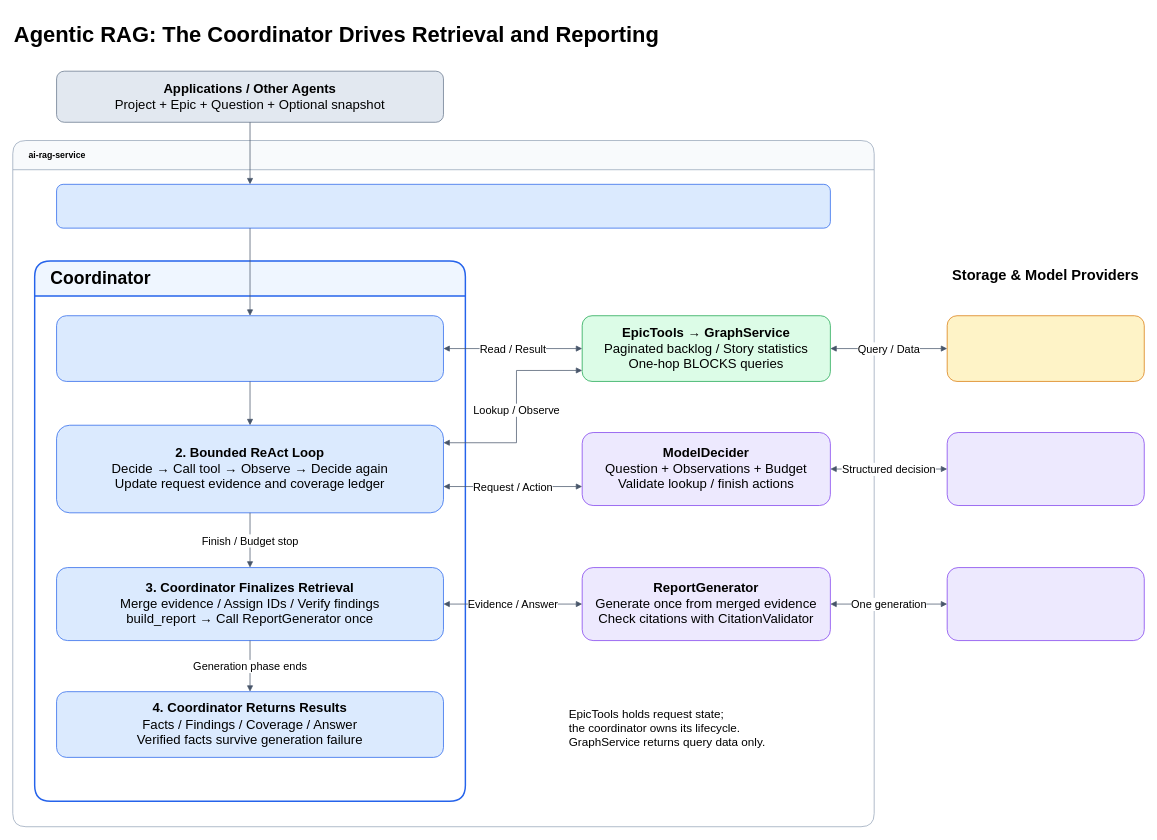
The diagram is 1157 pixels wide and 840 high, and some of its shapes have lost their labels. The centre of each missing label's shape, as x and y in pixels:
1. Mandatory Initial Read Coordinator calls get_epic_backlog: point 249,348
Neo4j + Published Snapshots Fixed site / project / snapshot Read-only access: point 1045,348
OpenAI Decision Model Strict JSON Schema Select an action: point 1045,469
OpenAI Generation Model Express facts and limitations Return text + citation IDs: point 1045,604
POST /agentic/query · Validate input / Allowlisted project / Pinned snapshot: point 443,206
